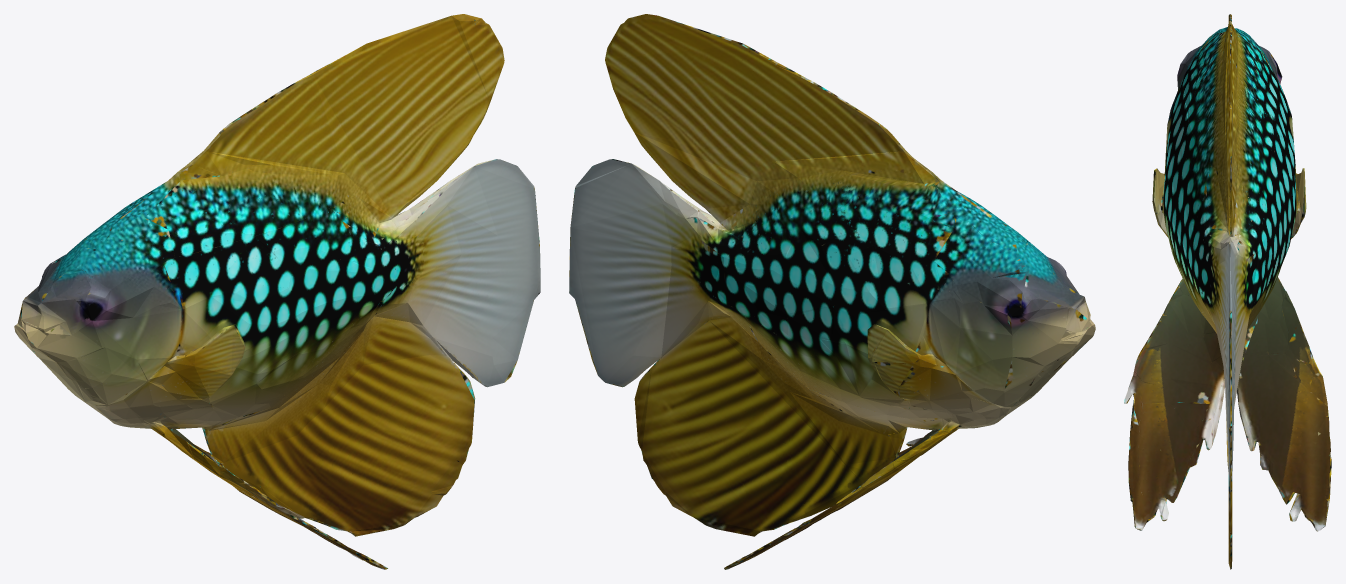
File: fish_0017_smpl23_resized.glb
3 views of the same model, side by side, from view 1: azimuth 30°, elevation 25°; view 2: azimuth 150°, elevation 25°; view 3: azimuth 270°, elevation 25° (orthographic). The views are drawn at different scales.
Parts seen in each view (by area): view 1: world; view 2: world; view 3: world.
Part boxes in pixels (box(x1,y1,x2,y2)): world: box(14, 14, 540, 569); world: box(569, 14, 1095, 569); world: box(1124, 14, 1331, 569).
Bounding box in the file's own units: 1.99 × 1.82 × 0.6578.
Materials: 1 (1 with a texture image).
